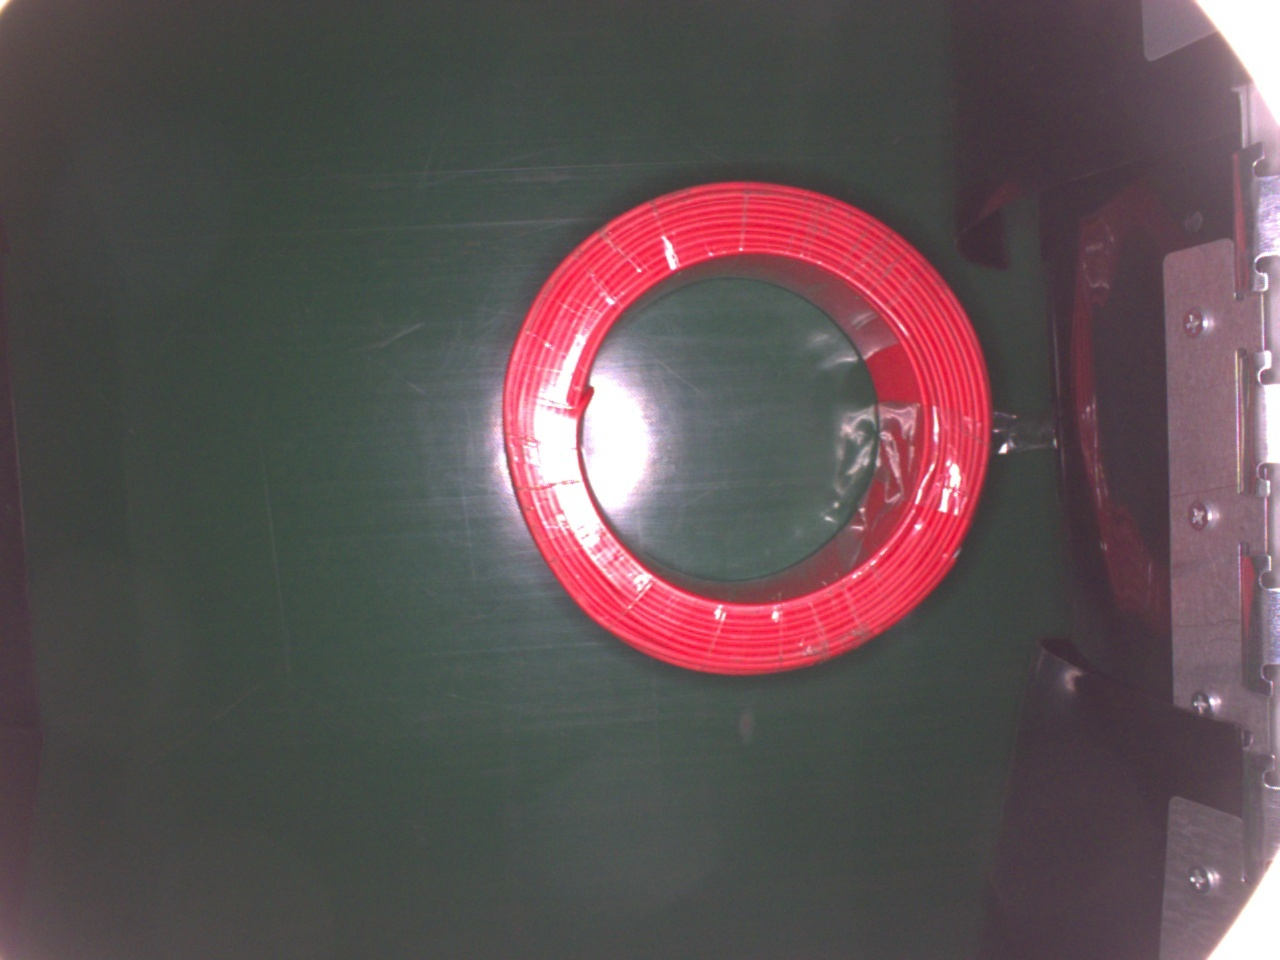red: (501, 174, 996, 676)
